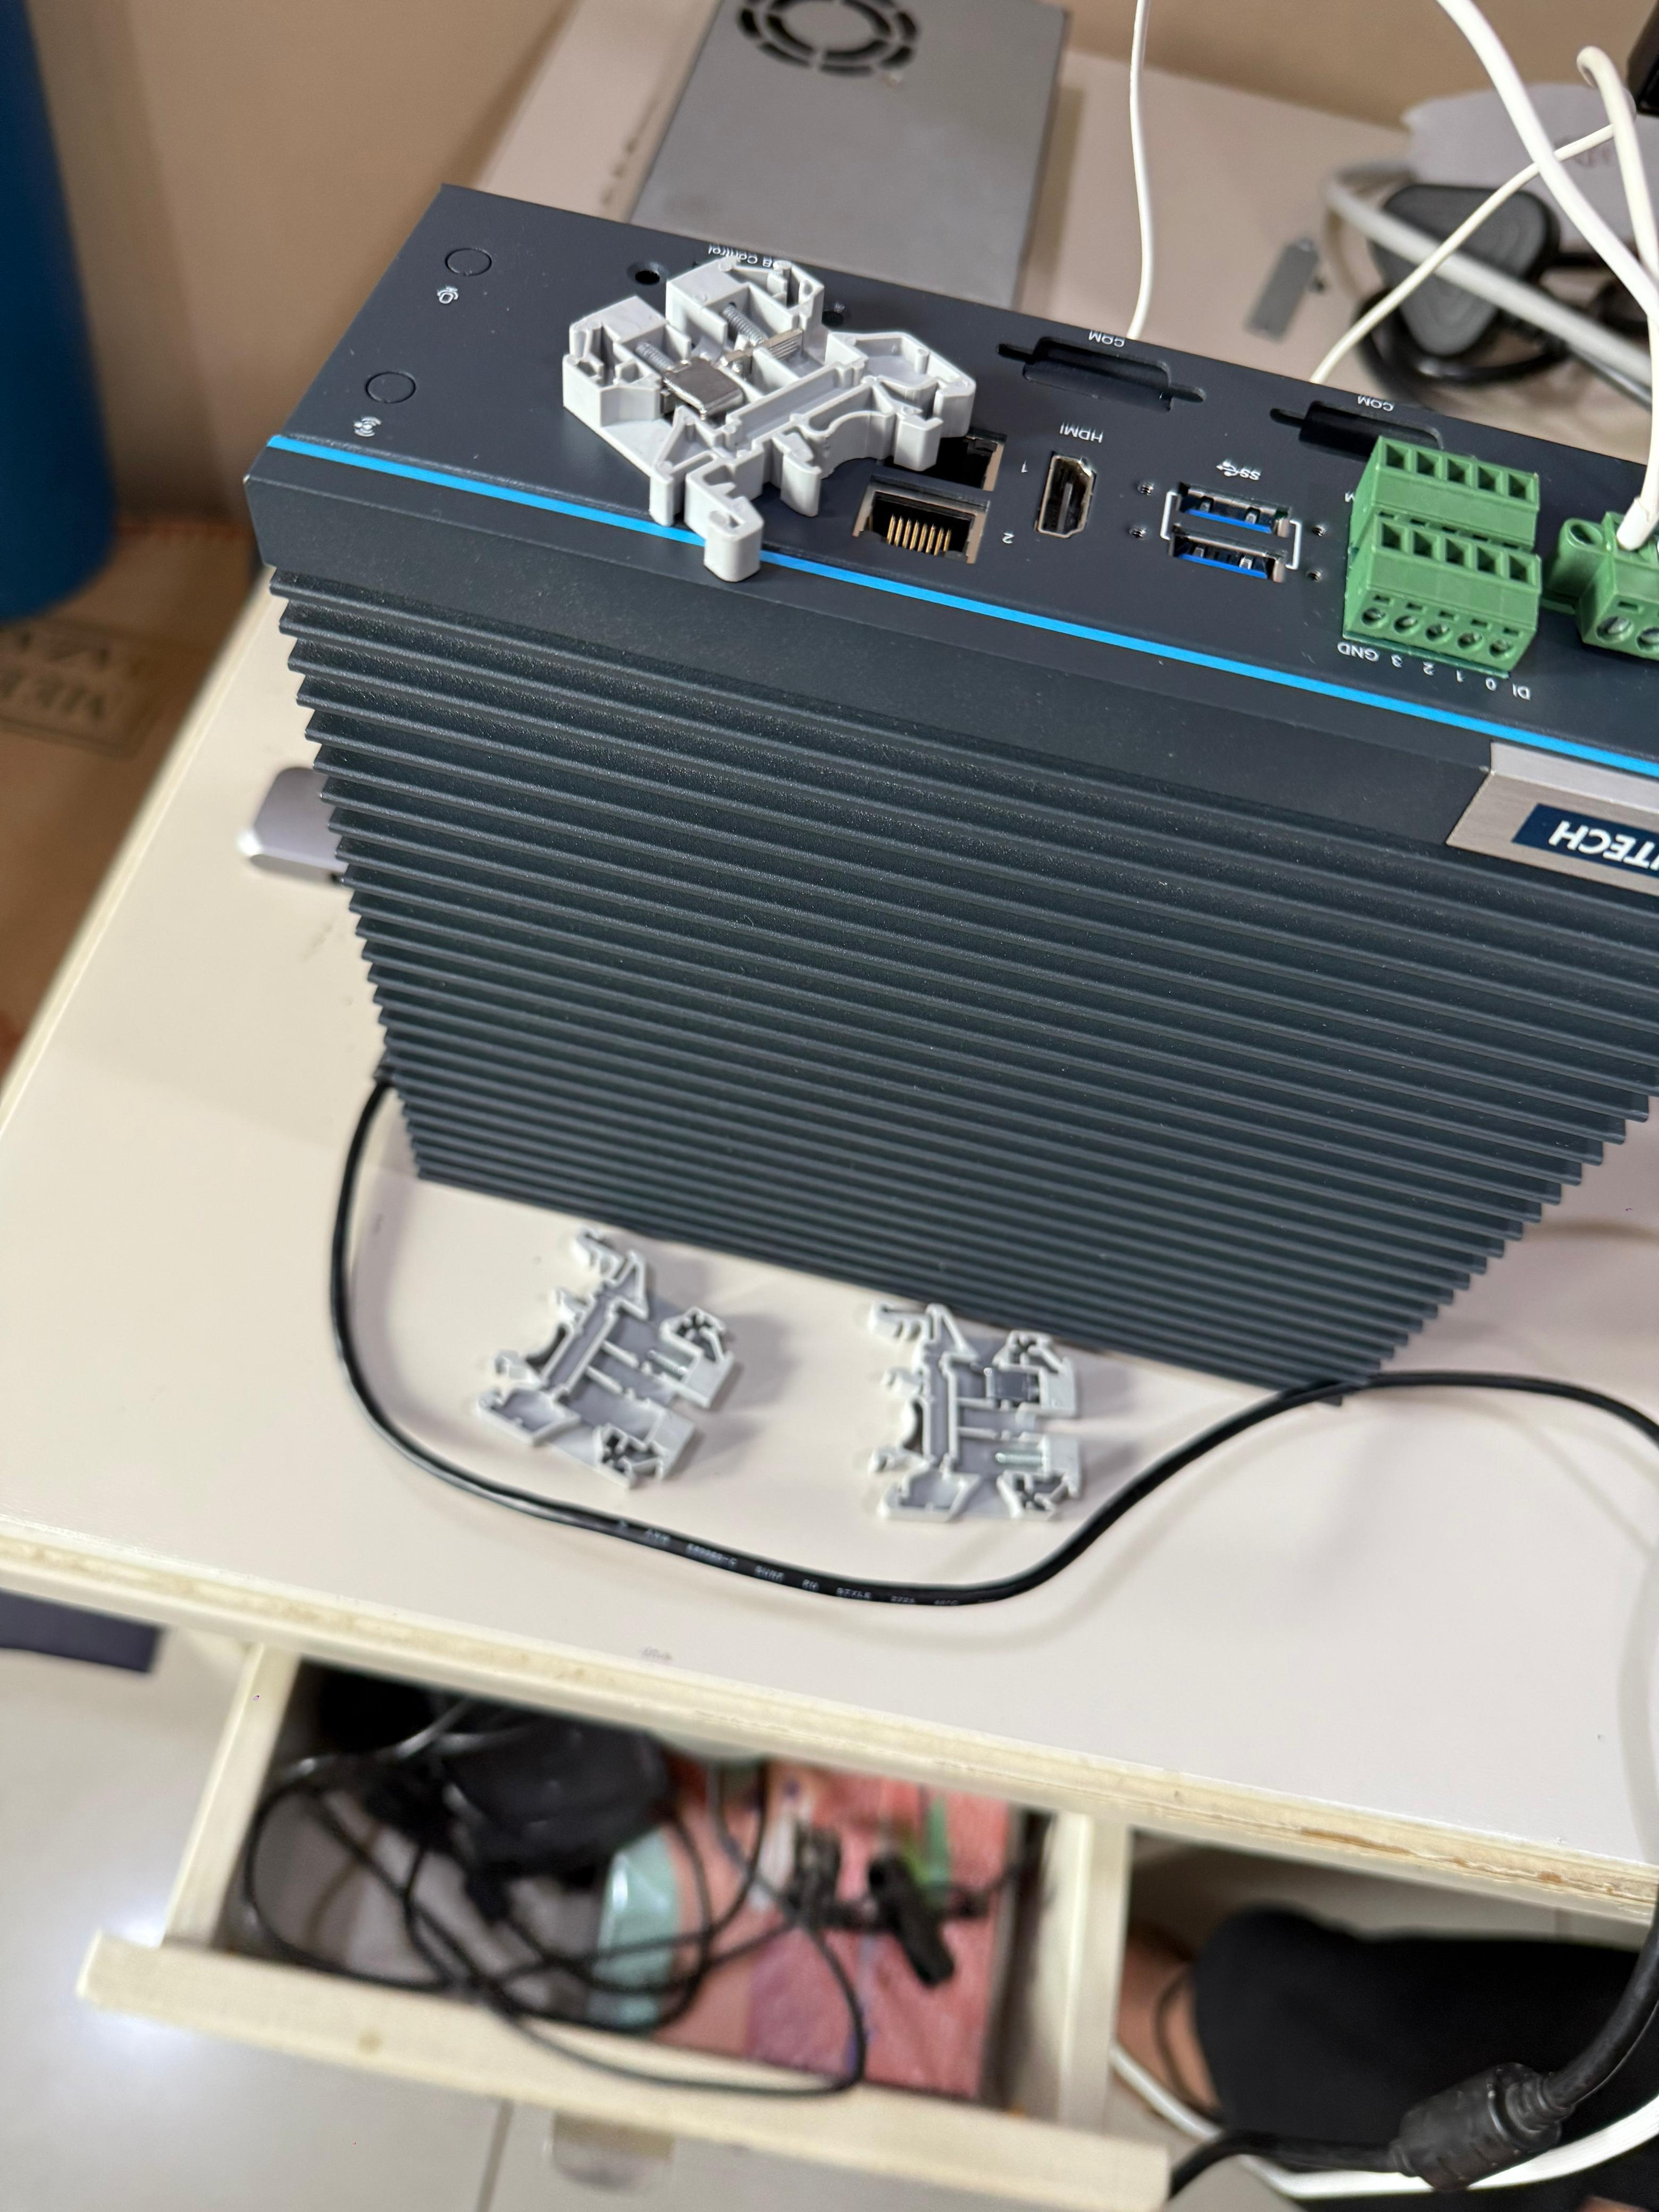Reject: (547, 242, 990, 590), (469, 1217, 753, 1493), (861, 1289, 1091, 1527)
